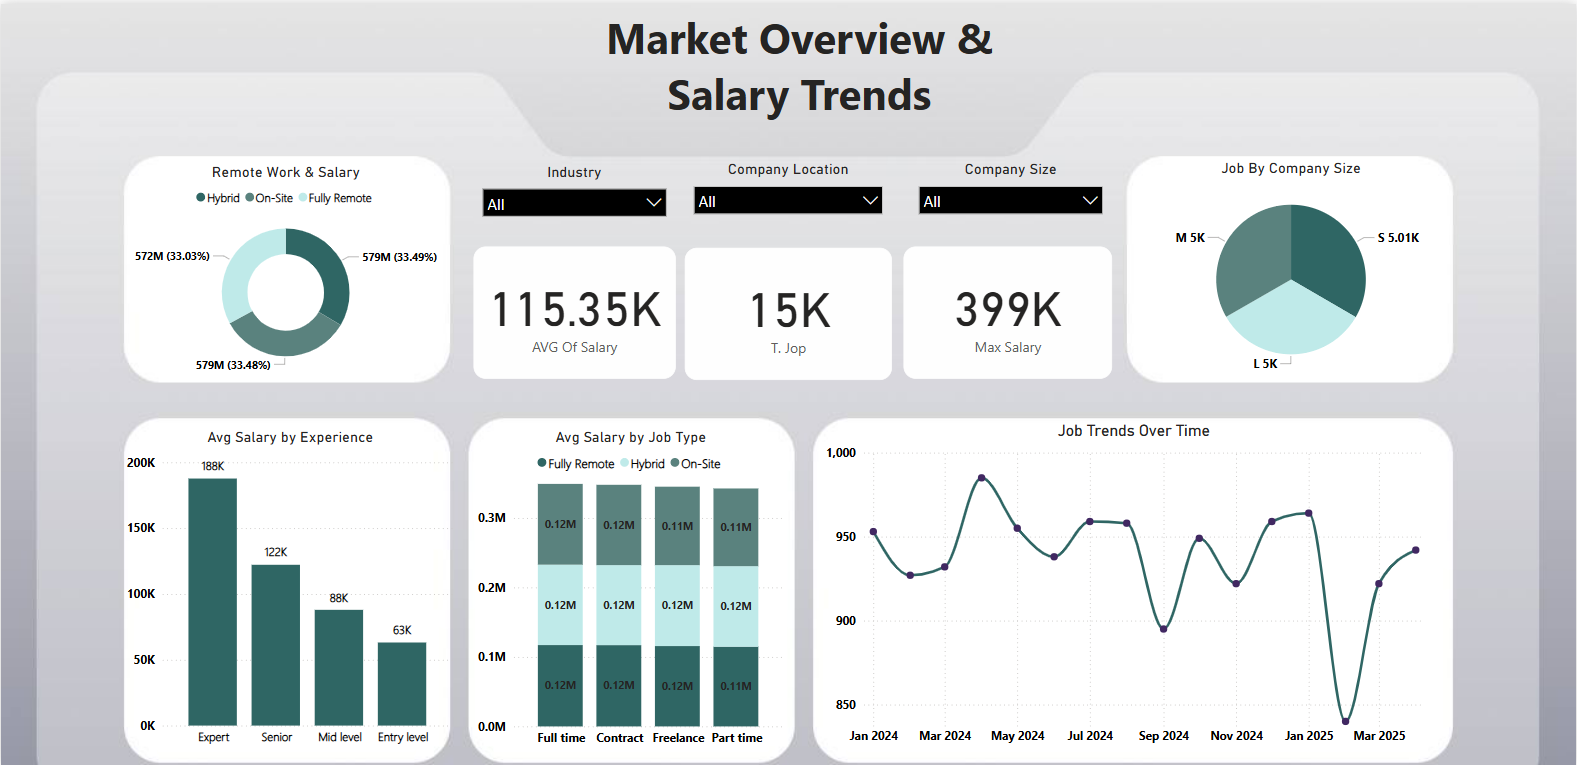

Layout of this report page (visuals, bound fields, positions):
{"tool":"powerbi","page":{"name":"Market Overview & Salary Trends","canvas":[1800,870],"ordinal":0},"visuals":[{"type":"card","fields":{"Values":["CountNonNull(AI Job Dataset.Job Title)"]},"box":[780.9,277.9,236.8,151.5],"z":0},{"type":"card","fields":{"Values":["Avg(AI Job Dataset.Salary USD)"]},"box":[539.7,276.5,230.9,151.5],"z":1000},{"type":"card","fields":{"Values":["Max(AI Job Dataset.Salary USD)"]},"box":[1030.9,276.5,238.2,151.5],"z":2000},{"type":"clusteredColumnChart","title":"Avg Salary by Experience","fields":{"Category":["AI Job Dataset.Experience Level"],"Y":["Avg(AI Job Dataset.Salary USD)"]},"box":[138.7,483.9,383.9,372.6],"z":3000},{"type":"donutChart","title":"Remote Work & Salary","fields":{"Category":["AI Job Dataset.Remote Work Type"],"Y":["Sum(AI Job Dataset.Salary USD)"]},"box":[128.4,182.1,394,247.8],"z":4000},{"type":"lineChart","title":"Job Trends Over Time","fields":{"Y":["CountNonNull(AI Job Dataset.Job Title)"],"Category":["AI Job Dataset.Posting Date.Variation.Date Hierarchy.Year","AI Job Dataset.Posting Date.Variation.Date Hierarchy.Month"]},"box":[937.3,477.6,714.9,379.1],"z":5000},{"type":"columnChart","title":"Avg Salary by Job Type","fields":{"Y":["Avg(AI Job Dataset.Salary USD)"],"Category":["AI Job Dataset.Employment Type"],"Series":["AI Job Dataset.Remote Work Type"]},"box":[540.3,483.6,359.7,373.1],"z":6000},{"type":"slicer","title":"Industry","fields":{"Values":["AI Job Dataset.Industry"]},"box":[539.7,180.9,230.9,83.8],"z":7000},{"type":"slicer","title":"Company Location","fields":{"Values":["AI Job Dataset.Company Location"]},"box":[780.9,177.9,236.8,92.6],"z":8000},{"type":"pieChart","title":"Job By Company Size","fields":{"Category":["AI Job Dataset.Company Size"],"Y":["CountNonNull(AI Job Dataset.Job Title)"]},"box":[1285.1,177.6,377.6,256.7],"z":9000},{"type":"slicer","title":"Company Size","fields":{"Values":["AI Job Dataset.Company Size"]},"box":[1038.2,177.9,230.9,76.5],"z":10000},{"type":"textbox","box":[623.9,0,576.1,153.7],"z":11000}]}

Visuals, with their boxes in screenshot pixels (x1, y1, x2, y2), scaled from the page's 1800x870 canvas onto the 1577x765 screenshot:
card - CountNonNull(AI Job Dataset.Job Title): crop(684, 244, 892, 378)
card - Avg(AI Job Dataset.Salary USD): crop(473, 243, 675, 376)
card - Max(AI Job Dataset.Salary USD): crop(903, 243, 1112, 376)
"Avg Salary by Experience" clusteredColumnChart: crop(122, 425, 458, 753)
"Remote Work & Salary" donutChart: crop(112, 160, 458, 378)
"Job Trends Over Time" lineChart: crop(821, 420, 1448, 753)
"Avg Salary by Job Type" columnChart: crop(473, 425, 788, 753)
"Industry" slicer: crop(473, 159, 675, 233)
"Company Location" slicer: crop(684, 156, 892, 238)
"Job By Company Size" pieChart: crop(1126, 156, 1457, 382)
"Company Size" slicer: crop(910, 156, 1112, 224)
textbox: crop(547, 0, 1051, 135)
